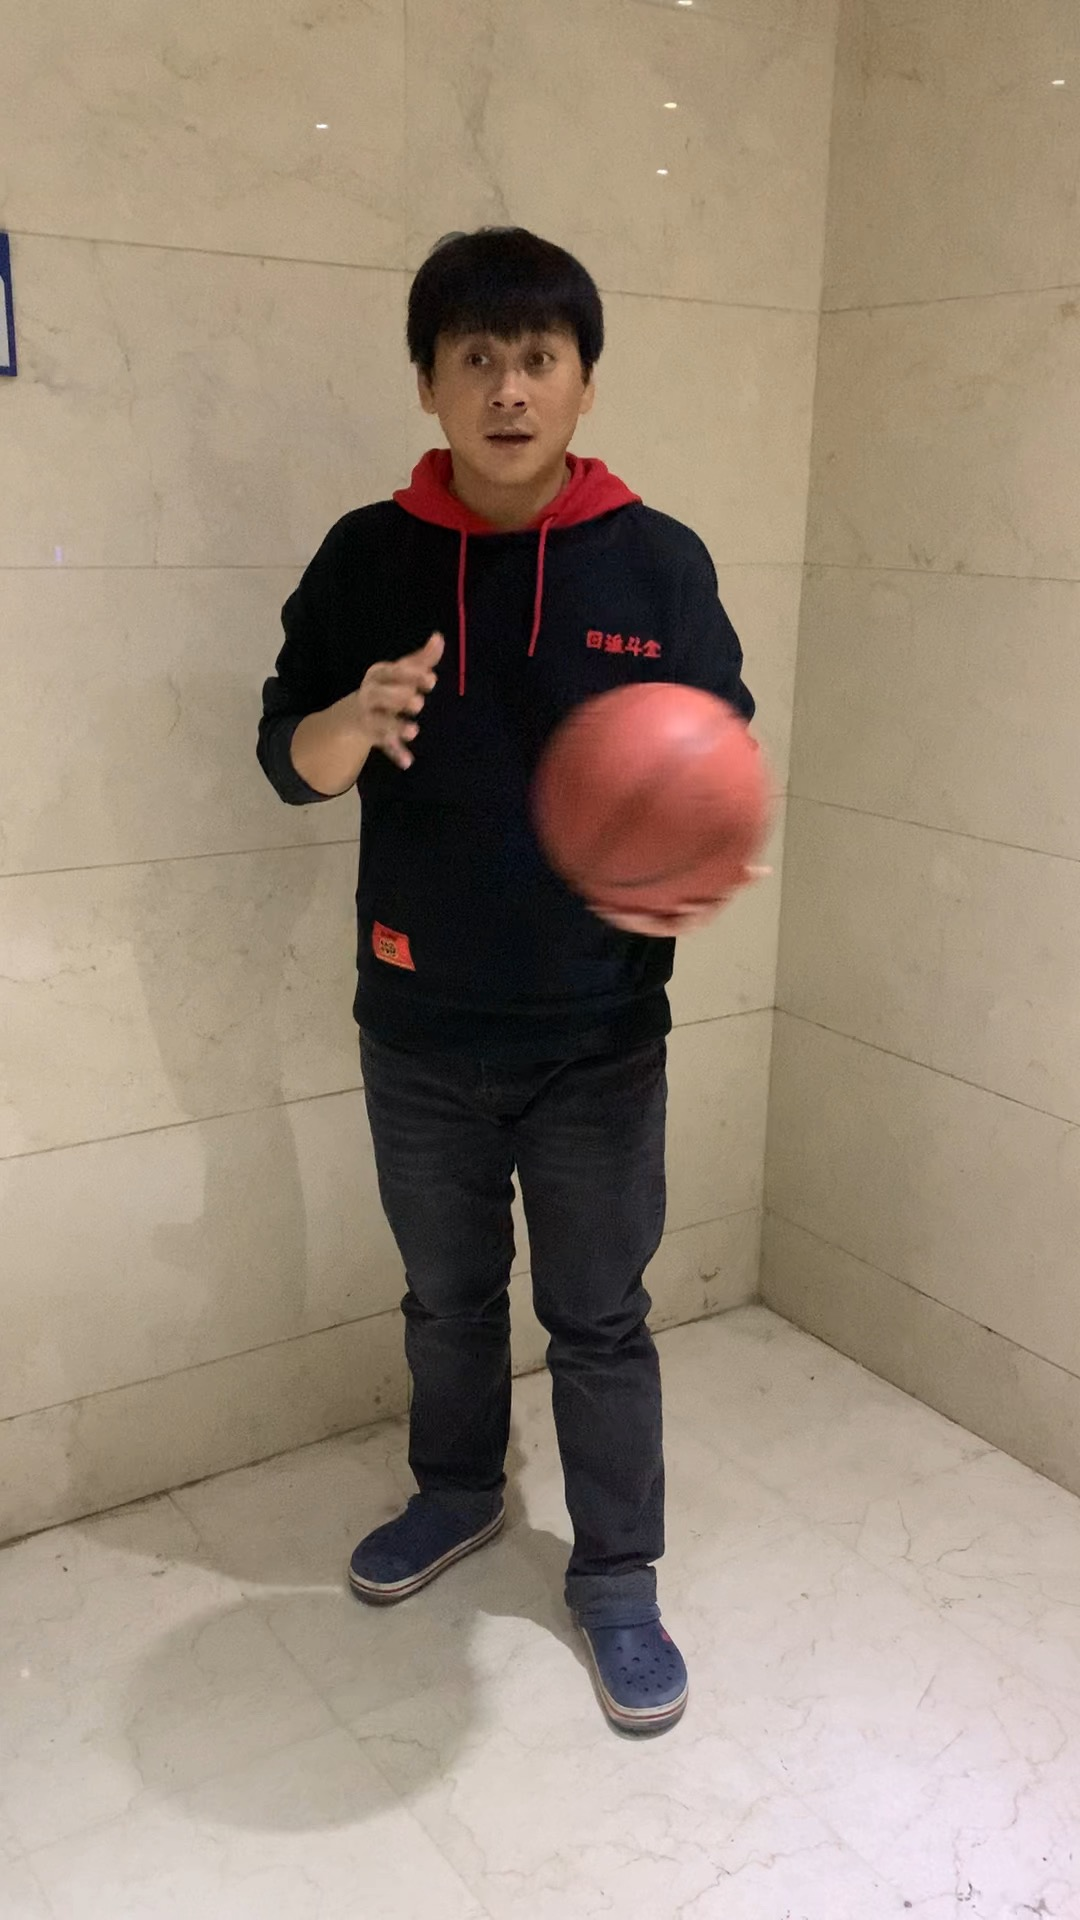ball: (542, 682, 769, 920)
